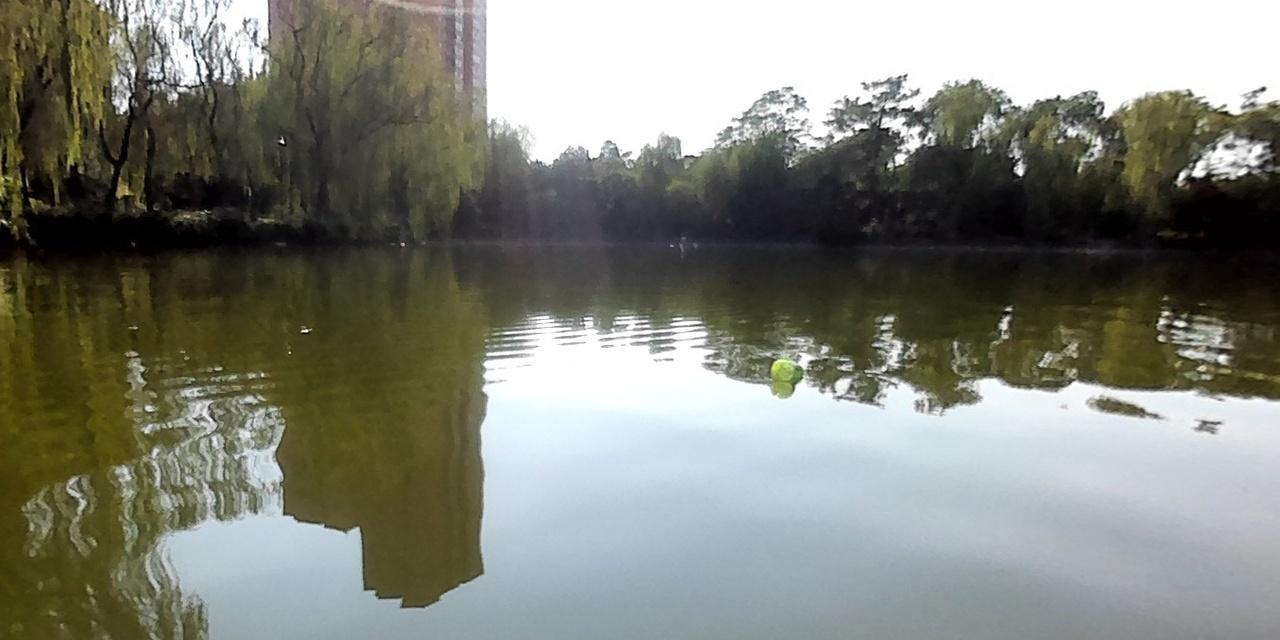bottle: (772, 358, 802, 384)
